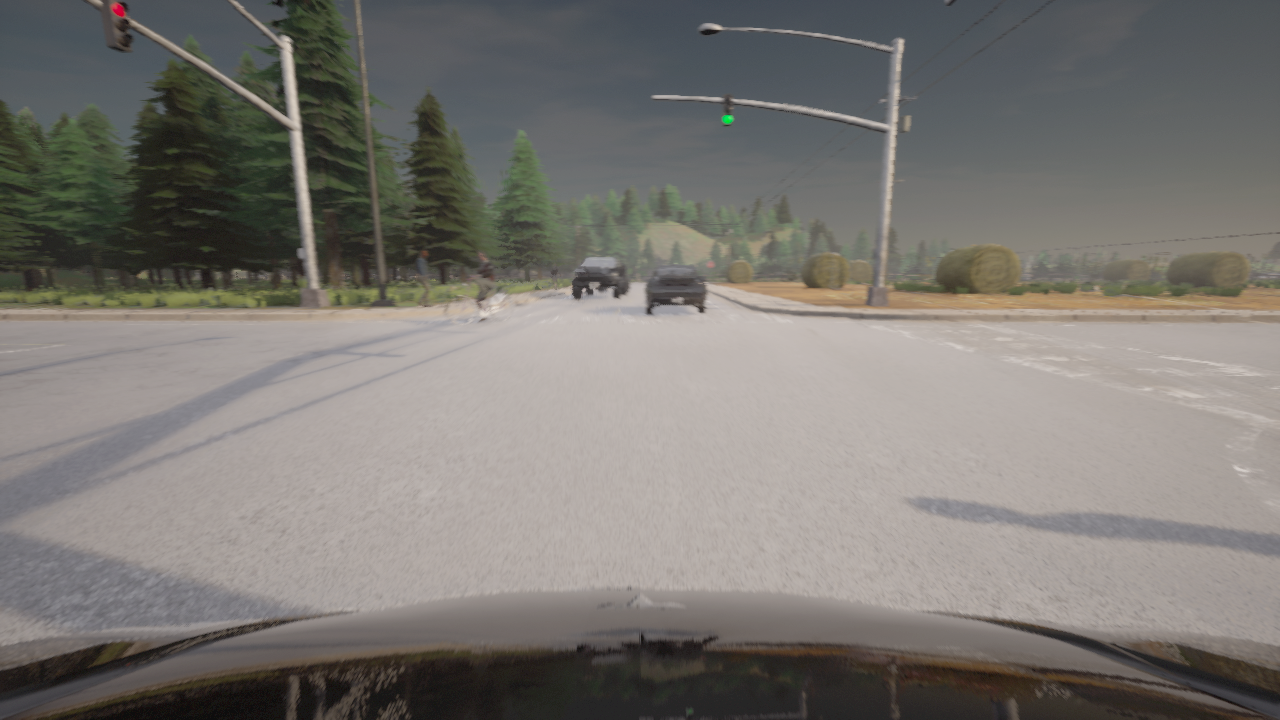cyclist: (0, 588, 1279, 719), (445, 276, 512, 325), (641, 264, 705, 313), (570, 256, 628, 299), (598, 276, 629, 292)
pedestrian: (416, 250, 433, 307), (550, 262, 560, 290)
